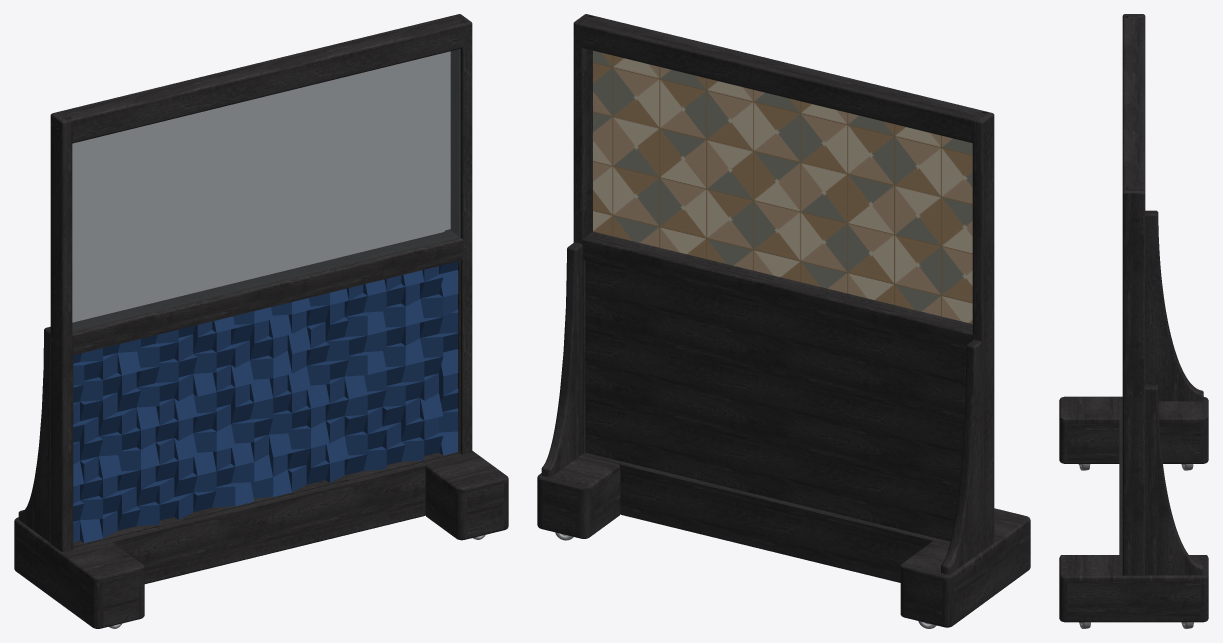
The model's file is v10-linen-marquetry-ebony-one.glb.
3 views of the same model, side by side, from view 1: azimuth 30°, elevation 25°; view 2: azimuth 150°, elevation 25°; view 3: azimuth 270°, elevation 25° (orthographic). The views are drawn at different scales.
Visible parts, largest first — view 1: Wood, Linen Marquetry reverse, Navy Everwood relief; view 2: Wood, Linen Marquetry print; view 3: Wood, Nonmarking rubber.
Part boxes in pixels (bbox=[...]): Wood: bbox=[14, 14, 508, 628]; Linen Marquetry reverse: bbox=[72, 49, 460, 331]; Navy Everwood relief: bbox=[73, 261, 458, 543]; Wood: bbox=[537, 14, 1030, 627]; Linen Marquetry print: bbox=[593, 50, 972, 323]; Wood: bbox=[1059, 14, 1208, 622]; Nonmarking rubber: bbox=[1079, 464, 1193, 628].
Bounding box in the file's own units: 1.68 × 1.91 × 0.5842.
10 materials, 2 textured.
